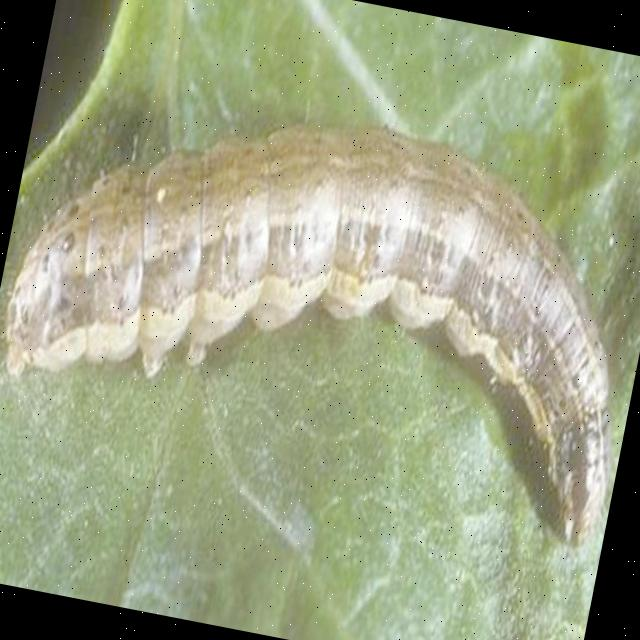worm: (1, 60, 640, 553)
